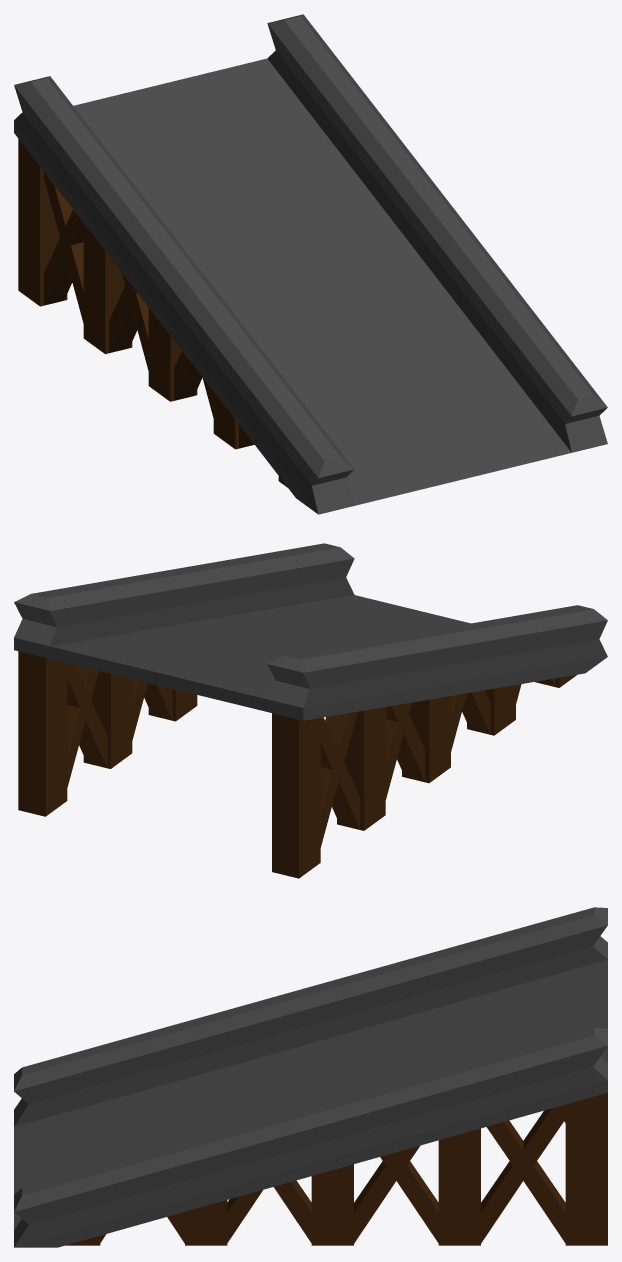
The model's file is FinalSlope.fbx.
The picture shows the model from 3 angles, top to bottom: view 1: azimuth 30°, elevation 25°; view 2: azimuth 150°, elevation 25°; view 3: azimuth 270°, elevation 25°; orthographic projection. The views are drawn at different scales.
Parts seen in each view (by area): view 1: Slope; view 2: Slope; view 3: Slope.
Part boxes in pixels (x1=…): Slope: x1=14, y1=14, x2=607, y2=514; Slope: x1=14, y1=543, x2=607, y2=878; Slope: x1=14, y1=907, x2=607, y2=1247.
Size of the model in its own units: 311 by 218 by 566.
